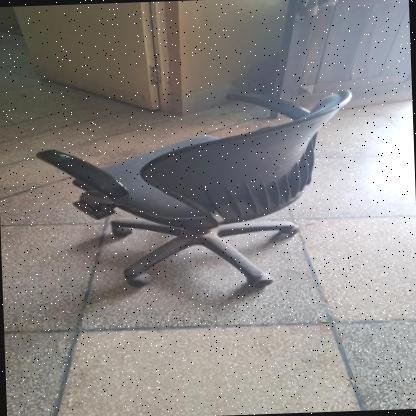chair: (32, 79, 368, 302)
